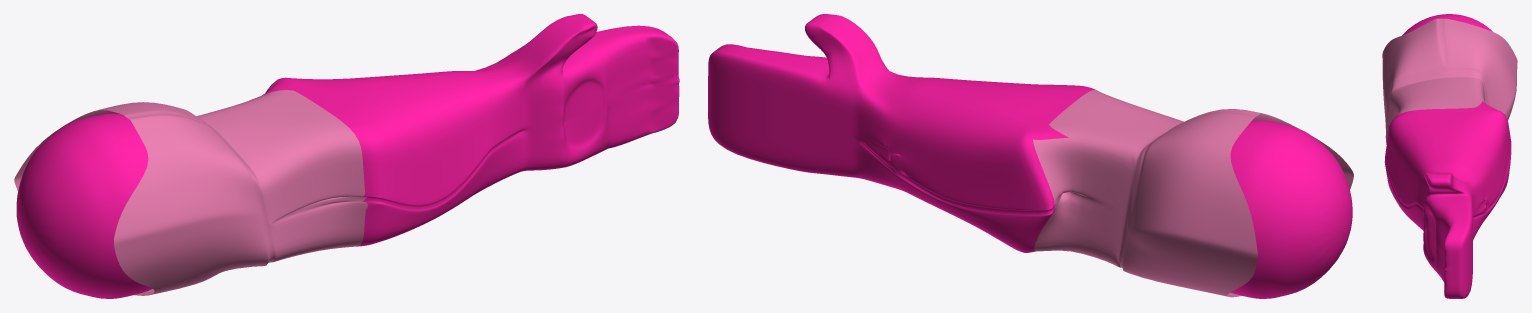
The model's file is arm_right.fbx.
3 views of the same model, side by side, from view 1: azimuth 30°, elevation 25°; view 2: azimuth 150°, elevation 25°; view 3: azimuth 270°, elevation 25° (orthographic). The views are drawn at different scales.
Parts seen in each view (by area): view 1: arm_rigth; view 2: arm_rigth; view 3: arm_rigth.
Part boxes in pixels (x1,y1,x2,y2): arm_rigth: (14,14,679,298); arm_rigth: (708,14,1353,298); arm_rigth: (1382,14,1517,298).
Size of the model in its own units: 0.6062 by 0.1584 by 0.161.
